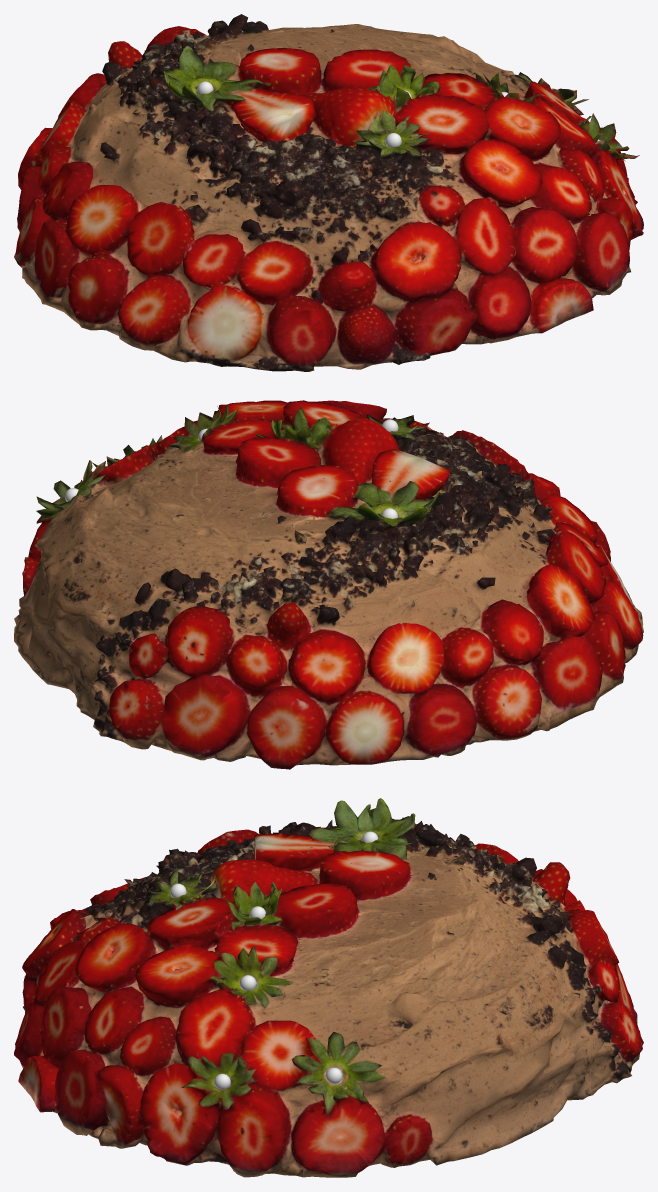
File: strawberry_chocolate_cake_4k.fbx
3 views of the same model, one above another, from view 1: azimuth 30°, elevation 25°; view 2: azimuth 150°, elevation 25°; view 3: azimuth 270°, elevation 25° (orthographic). The views are drawn at different scales.
Parts seen in each view (by area): view 1: strawberry_chocolate_cake; view 2: strawberry_chocolate_cake; view 3: strawberry_chocolate_cake.
Boxes of the visible parts, x1,y1,x2,y2 form: strawberry_chocolate_cake: (14,14,643,371); strawberry_chocolate_cake: (14,400,643,769); strawberry_chocolate_cake: (14,798,643,1177).
Bounding box in the file's own units: 24.43 × 7.92 × 24.03.
1 material, 1 textured.
